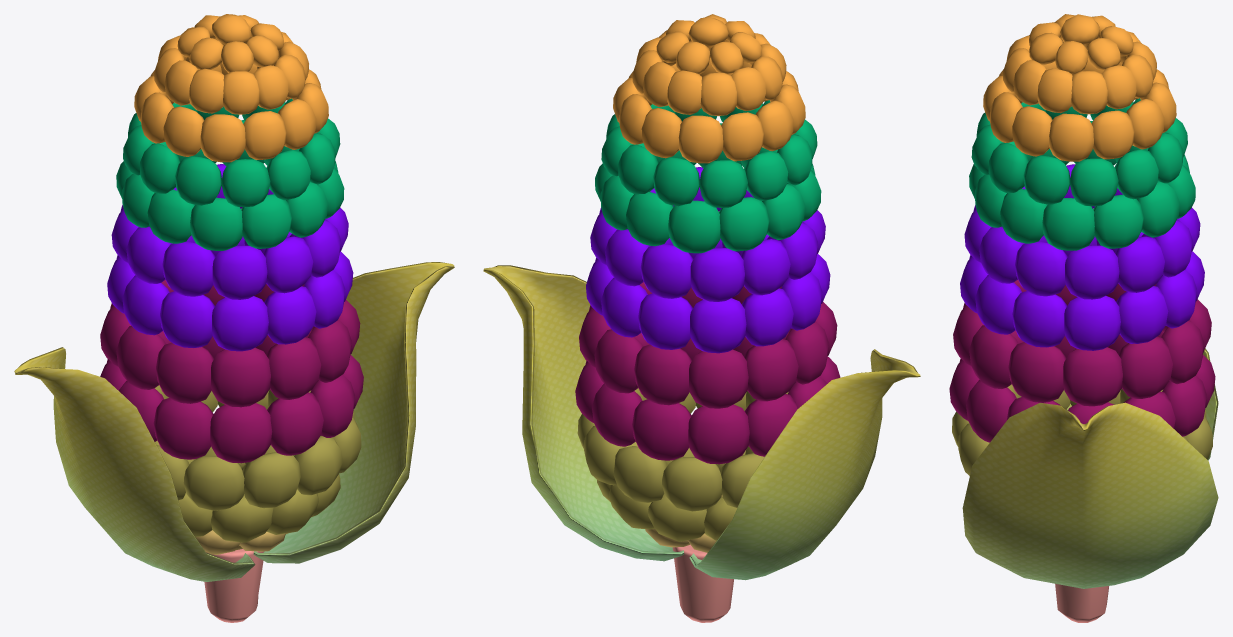
3 renders of one model, left to right at view 1: azimuth 30°, elevation 25°; view 2: azimuth 150°, elevation 25°; view 3: azimuth 270°, elevation 25°, orthographic.
Visible parts, largest first — view 1: Cube_L2, Cube_L2_2, Cube_L1_39, Cube_L1_40, Cube_L1_11, Cube_L1_14, Cube_L1_74, Cube_L1_25, Cube_L1_41, Cube_L2_1, Cube_L1_73, Cube_L1_55 (+51 smaller); view 2: Cube_L2, Cube_L2_2, Cube_L1_27, Cube_L1_30, Cube_L2_1, Cube_L1_59, Cube_L1_60, Cube_L1_42, Cube_L1_31, Cube_L1_7, Cube_L1_61, Cube_L1_35 (+51 smaller); view 3: Cube_L2_2, Cube_L1_131, Cube_L1_126, Cube_L1_130, Cube_L1_119, Cube_L1_123, Cube_L1_127, Cube_L1_121, Cube_L1_115, Cube_L1_125, Cube_L1_120, Cube_L1_103 (+53 smaller).
Part boxes in pixels (box(x1,y1,x2,y2)): Cube_L2: box(14, 347, 255, 581); Cube_L2_2: box(253, 262, 454, 563); Cube_L1_39: box(210, 403, 272, 463); Cube_L1_40: box(211, 347, 270, 407); Cube_L1_11: box(153, 398, 213, 459); Cube_L1_14: box(156, 342, 214, 403); Cube_L1_74: box(267, 392, 323, 455); Cube_L1_25: box(183, 456, 244, 510); Cube_L1_41: box(212, 296, 268, 351); Cube_L2_1: box(204, 549, 264, 622); Cube_L1_73: box(266, 337, 321, 399); Cube_L1_55: box(242, 452, 300, 508); Cube_L2: box(689, 349, 920, 580); Cube_L2_2: box(483, 265, 684, 561); Cube_L1_27: box(688, 404, 749, 464); Cube_L1_30: box(689, 349, 748, 408); Cube_L2_1: box(672, 544, 733, 622); Cube_L1_59: box(632, 399, 691, 460); Cube_L1_60: box(634, 344, 691, 405); Cube_L1_42: box(662, 457, 722, 511); Cube_L1_31: box(690, 298, 746, 353); Cube_L1_7: box(743, 339, 798, 401); Cube_L1_61: box(638, 293, 692, 349); Cube_L1_35: box(690, 248, 744, 301); Cube_L2_2: box(962, 402, 1218, 588); Cube_L1_131: box(1063, 347, 1122, 406); Cube_L1_126: box(1008, 342, 1066, 402); Cube_L1_130: box(1064, 296, 1120, 350); Cube_L1_119: box(1118, 336, 1172, 398); Cube_L1_123: box(1012, 291, 1067, 347); Cube_L1_127: box(1065, 245, 1119, 299); Cube_L1_121: box(1015, 241, 1067, 296); Cube_L1_115: box(1116, 286, 1168, 343); Cube_L1_125: box(1042, 198, 1094, 250); Cube_L1_120: box(1093, 194, 1143, 248); Cube_L1_103: box(969, 325, 1018, 388).
Size of the model in its own units: 6.26 by 8.2 by 3.34.
